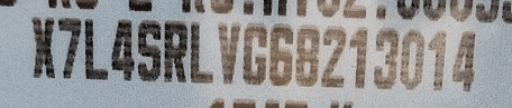letter: (29, 14, 57, 79), (450, 28, 478, 93), (82, 17, 110, 81), (56, 13, 82, 81), (320, 26, 348, 88), (110, 17, 136, 83), (136, 17, 162, 83), (162, 17, 188, 83), (216, 20, 242, 84), (268, 22, 294, 86), (373, 26, 399, 90), (398, 27, 424, 90), (189, 21, 215, 83), (294, 24, 320, 86), (241, 22, 267, 82), (426, 27, 448, 92), (347, 25, 369, 89)
